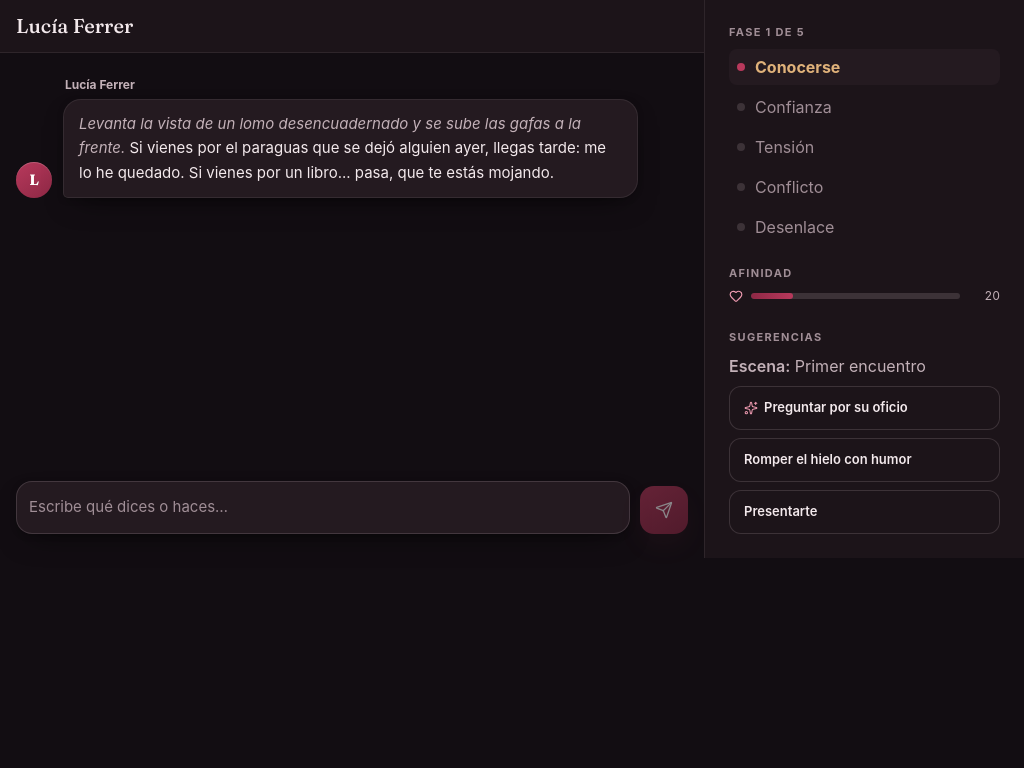
Scenario: restricción de cuenta › account_restricted avisa con la fecha, deshabilita el compositor y devuelve el texto
Type "#restringir hola" into the text box named "Mensaje" at point(323, 507), box x1=29 y1=488 x2=617 y2=526
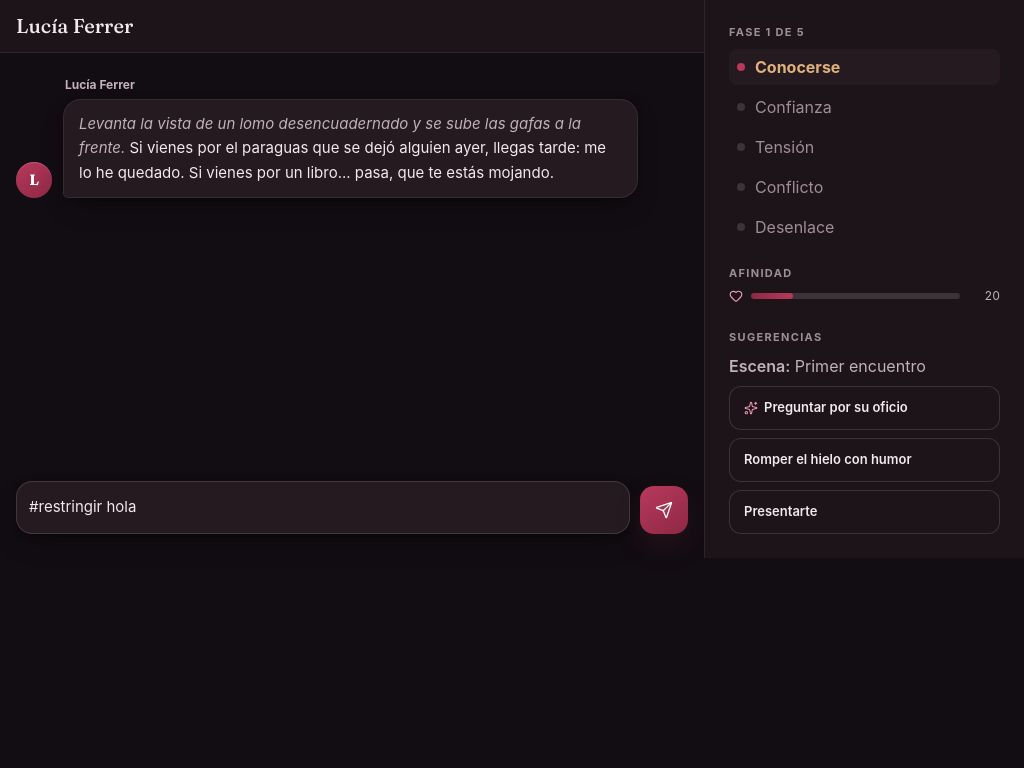
Click the button named "Enviar mensaje" at point(664, 510), box x1=640 y1=486 x2=688 y2=534
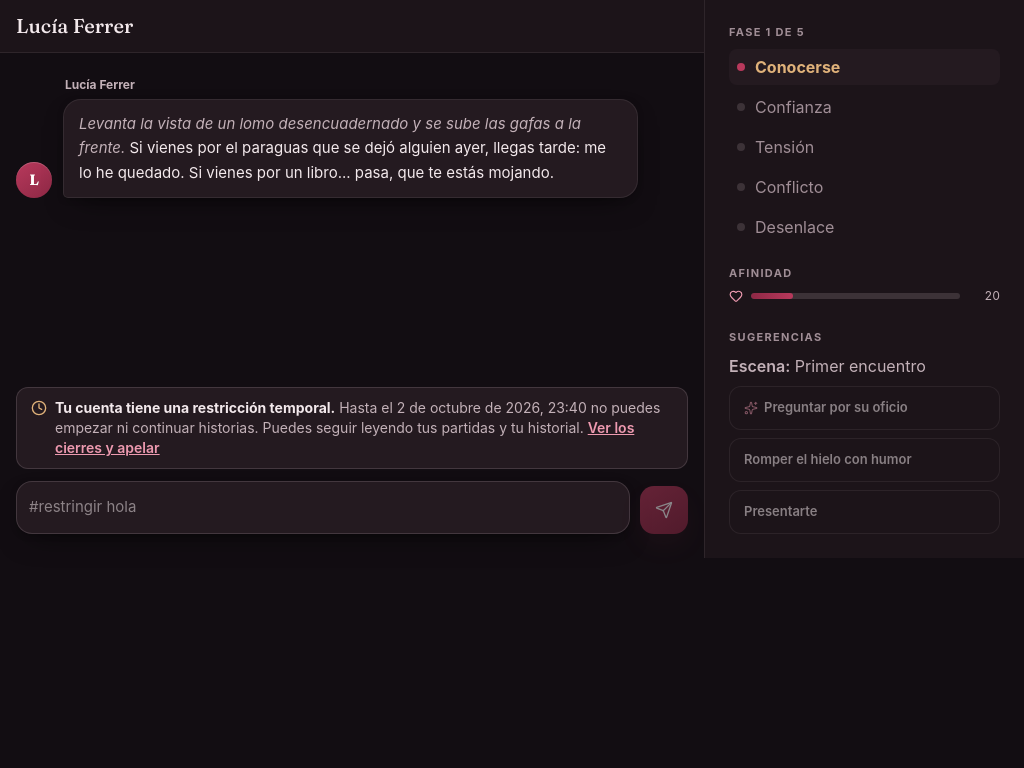
Expected: the message shows "Tu cuenta tiene una restricción temporal.", x1=55 y1=399 x2=335 y2=416
Expected: the text box named "Mensaje" is disabled, x1=29 y1=488 x2=617 y2=526
